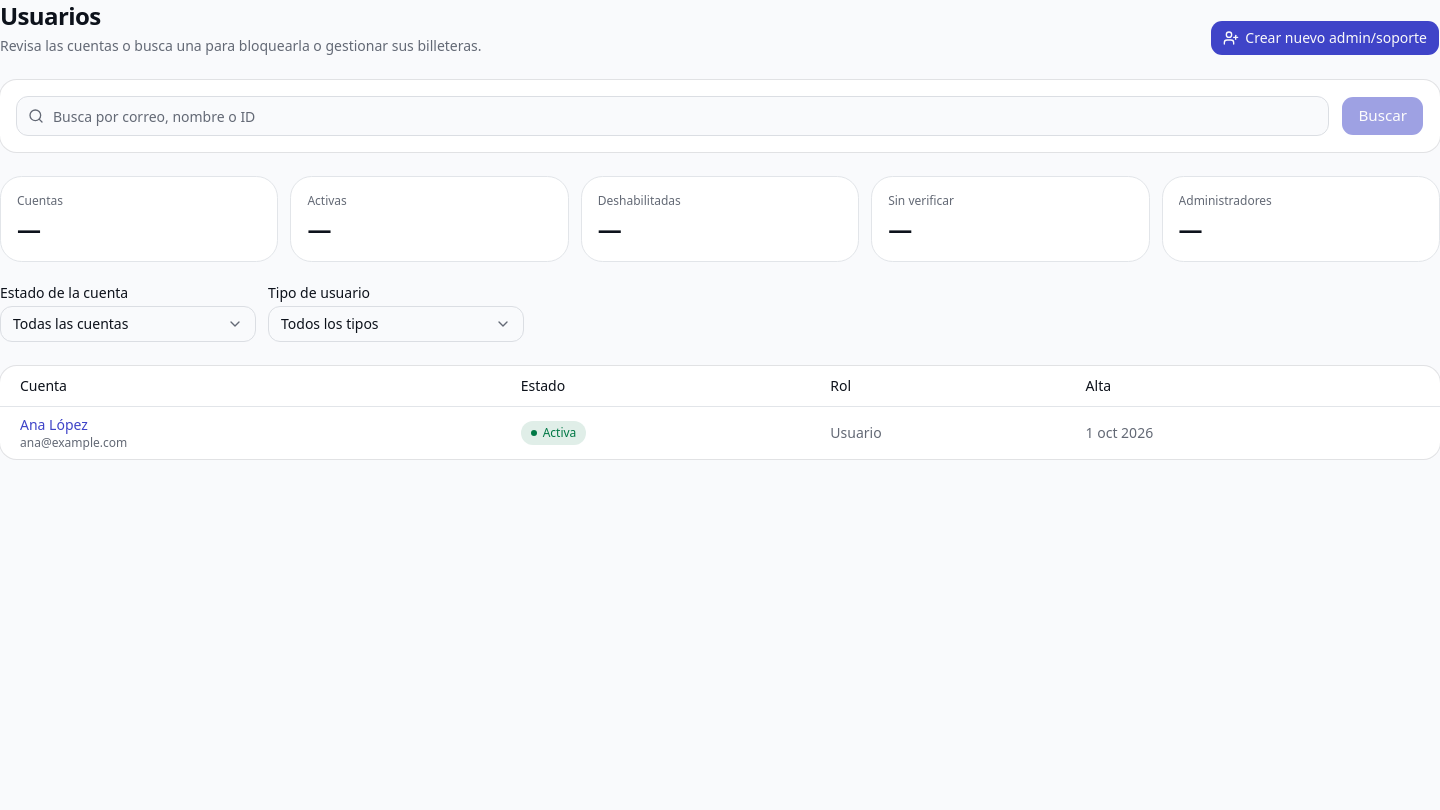
creating a team account › names what it creates by the role chosen in a select
Click the button "Crear nuevo admin/soporte" at (1325, 38), box top-left (1210, 20), bottom-right (1439, 56)
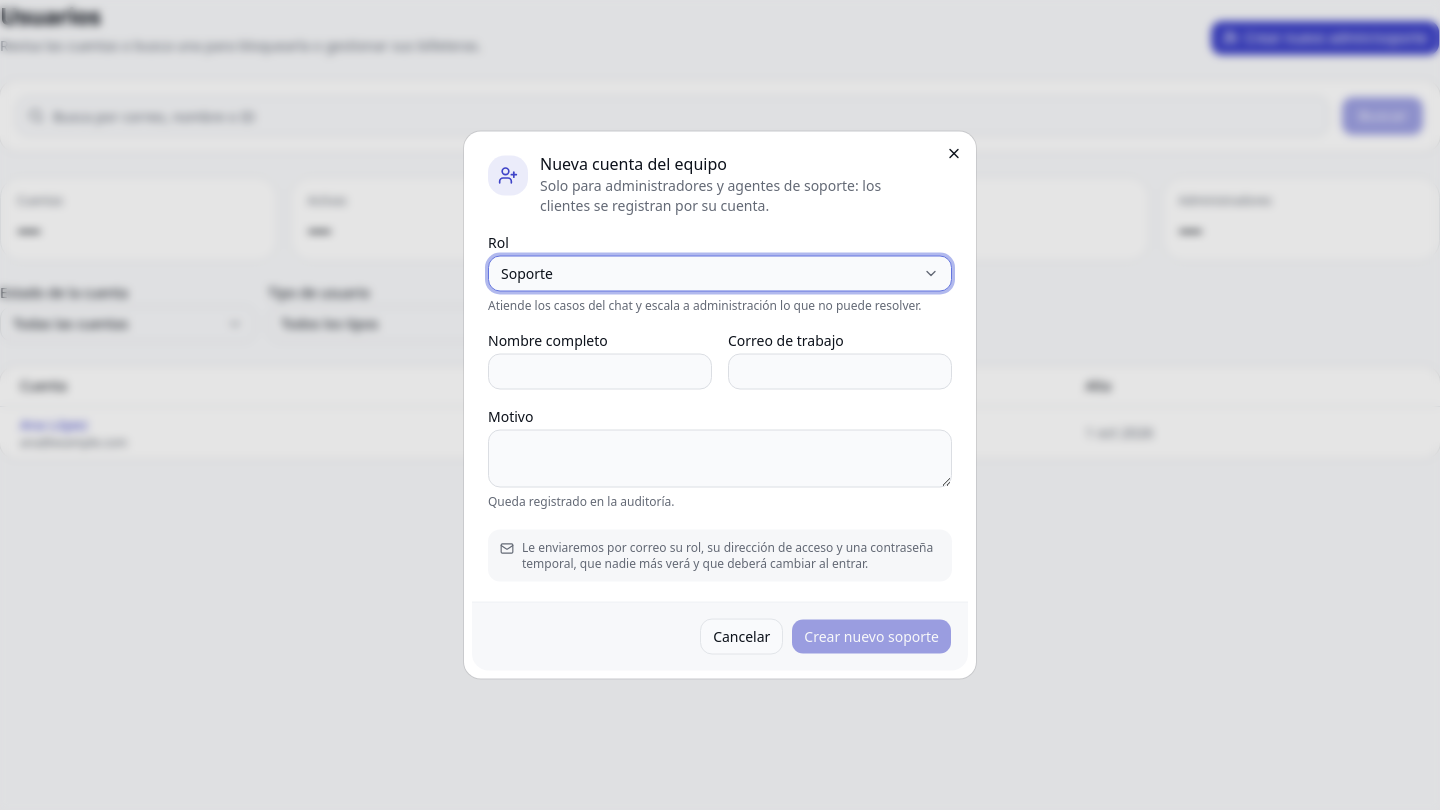
Type "Laura Díaz" into the field labelled "Nombre completo" at (600, 372), box top-left (488, 354), bottom-right (712, 390)
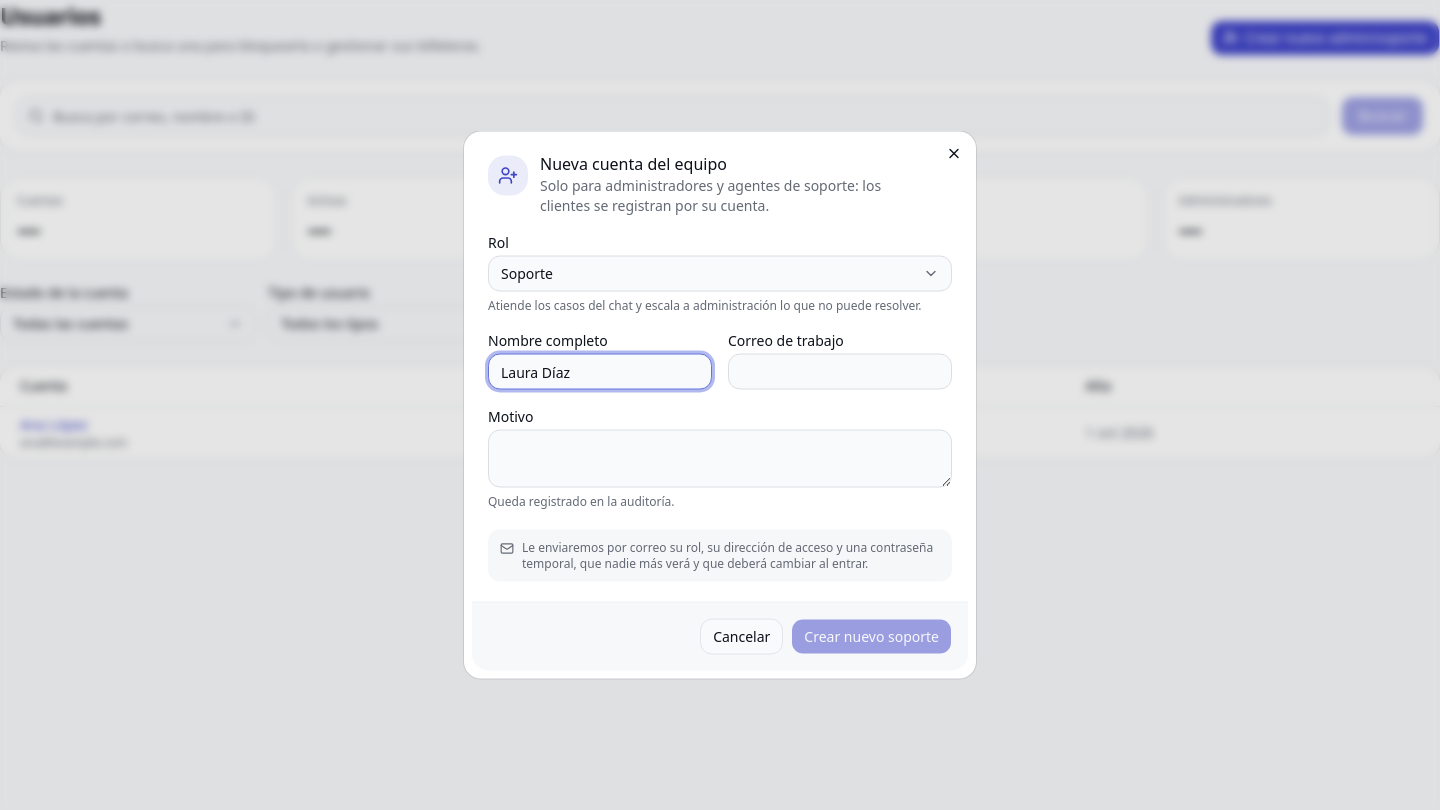
Type "laura@example.com" into the field labelled "Correo de trabajo" at (840, 372), box top-left (728, 354), bottom-right (952, 390)
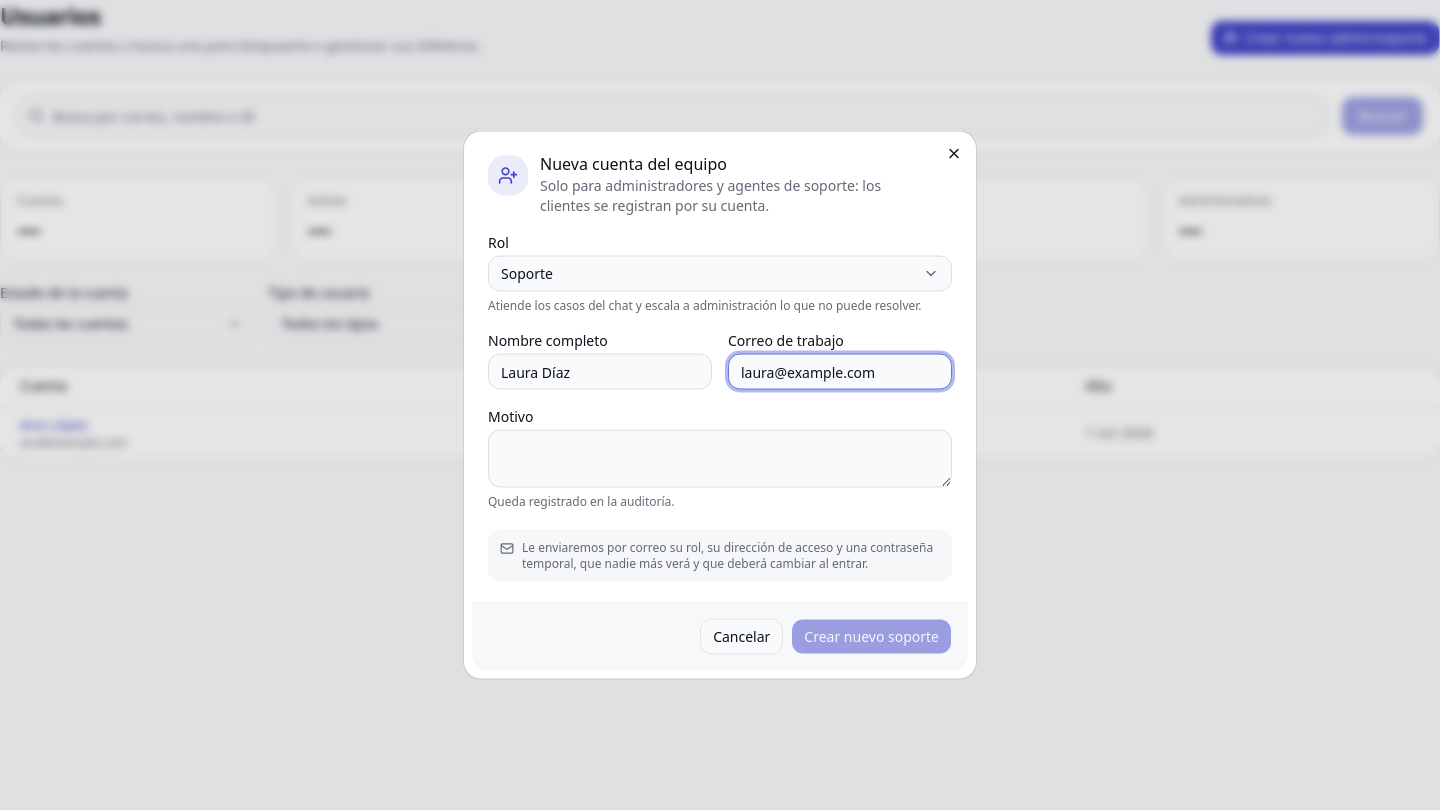
Type "Se une al equipo" into the text box labelled "Motivo" at (720, 458), box top-left (488, 430), bottom-right (952, 488)
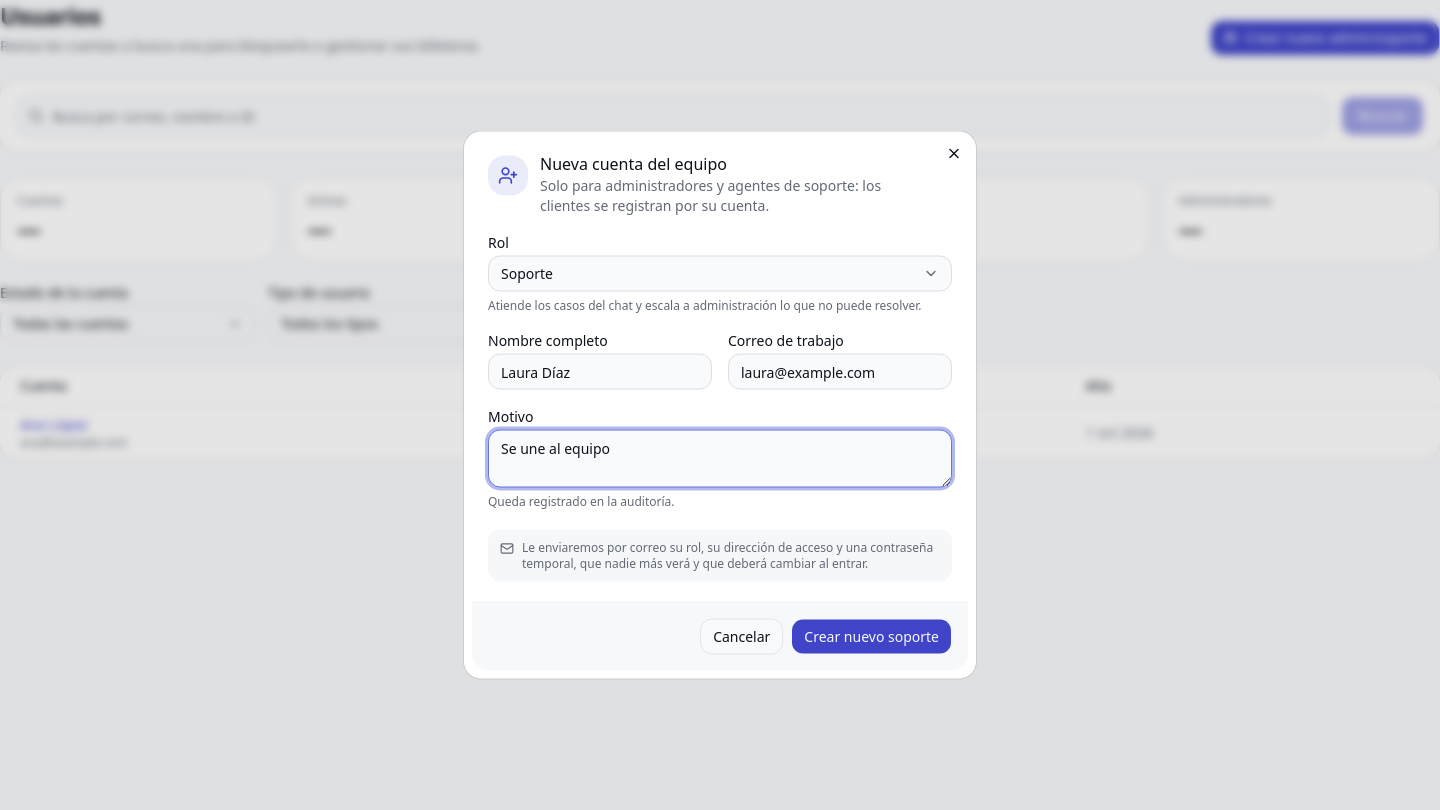
Expected: the button "Crear nuevo soporte" is shown, top-left (791, 618), bottom-right (952, 654)
Click the dropdown named "Rol" at (527, 273), box top-left (488, 256), bottom-right (952, 292)
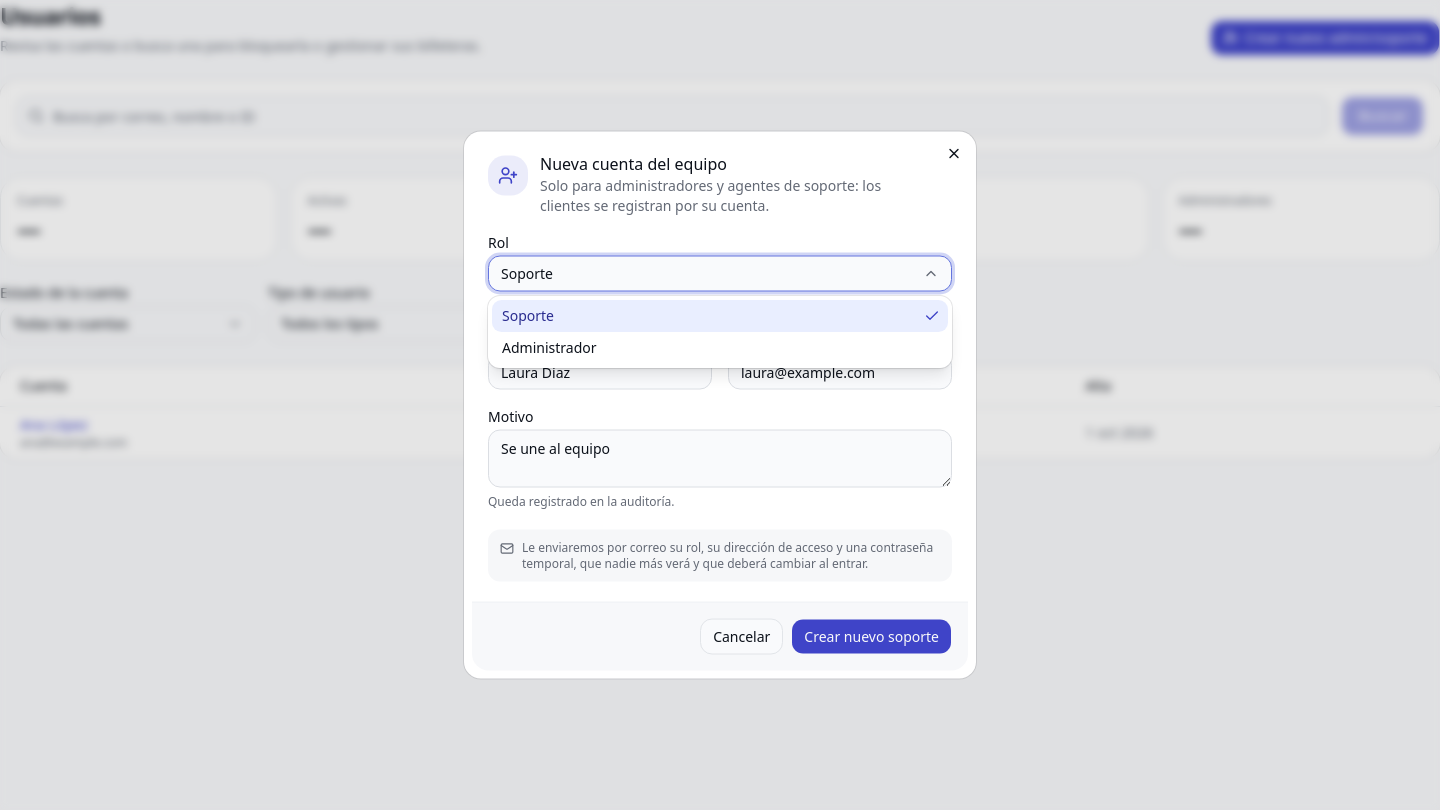
Click the option "Administrador" at (549, 348), box top-left (502, 338), bottom-right (596, 357)
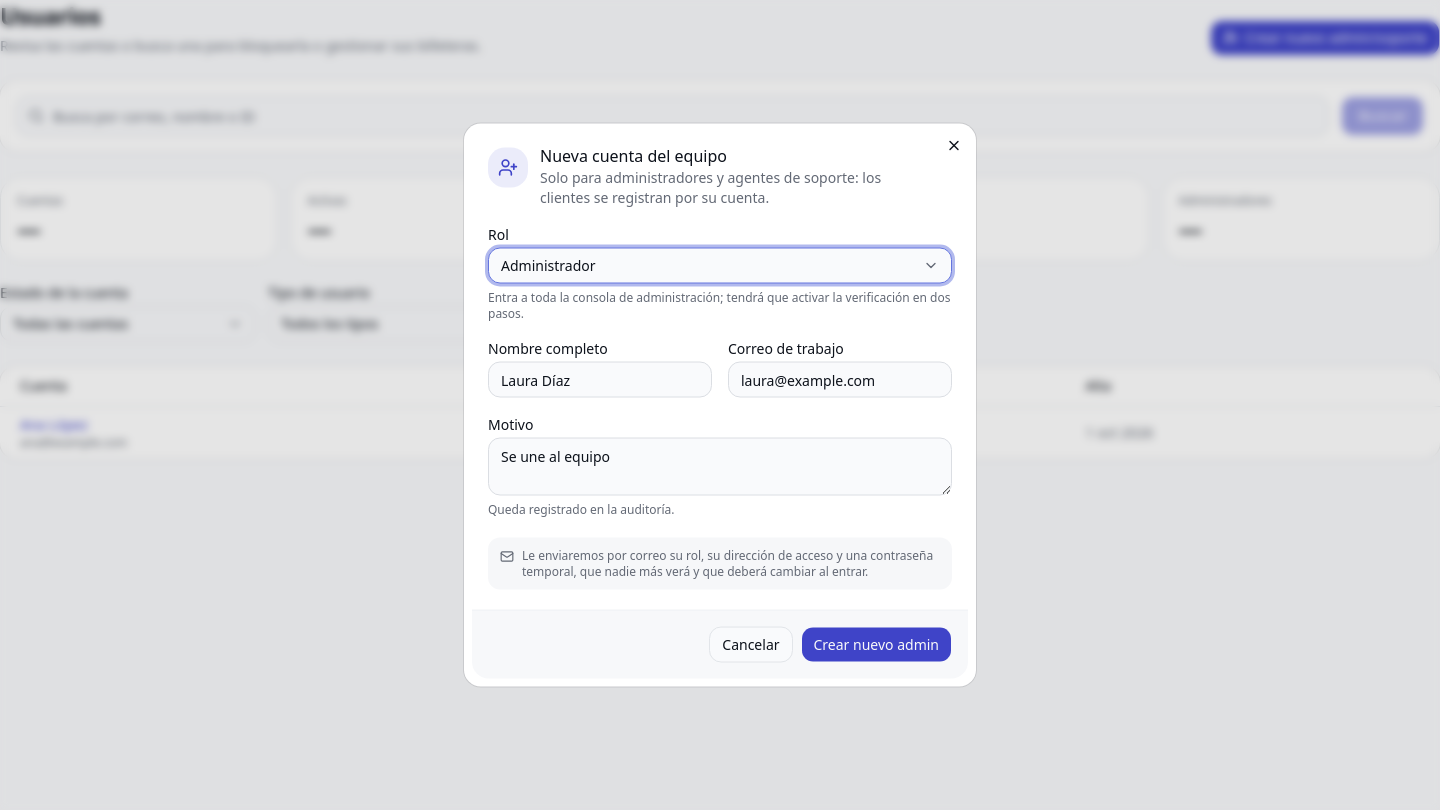
Expected: the button "Crear nuevo admin" is shown, top-left (800, 626), bottom-right (952, 662)
